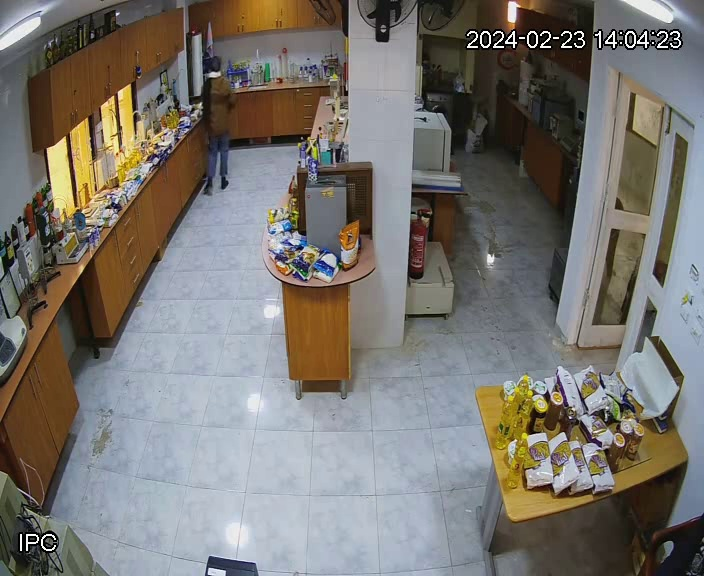Stealing: (202, 75, 234, 191)
